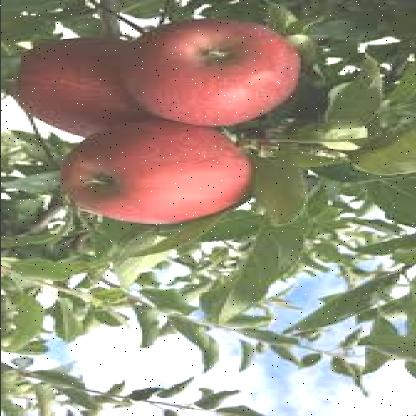apple: (57, 121, 250, 228), (128, 22, 294, 129), (2, 34, 144, 130)
